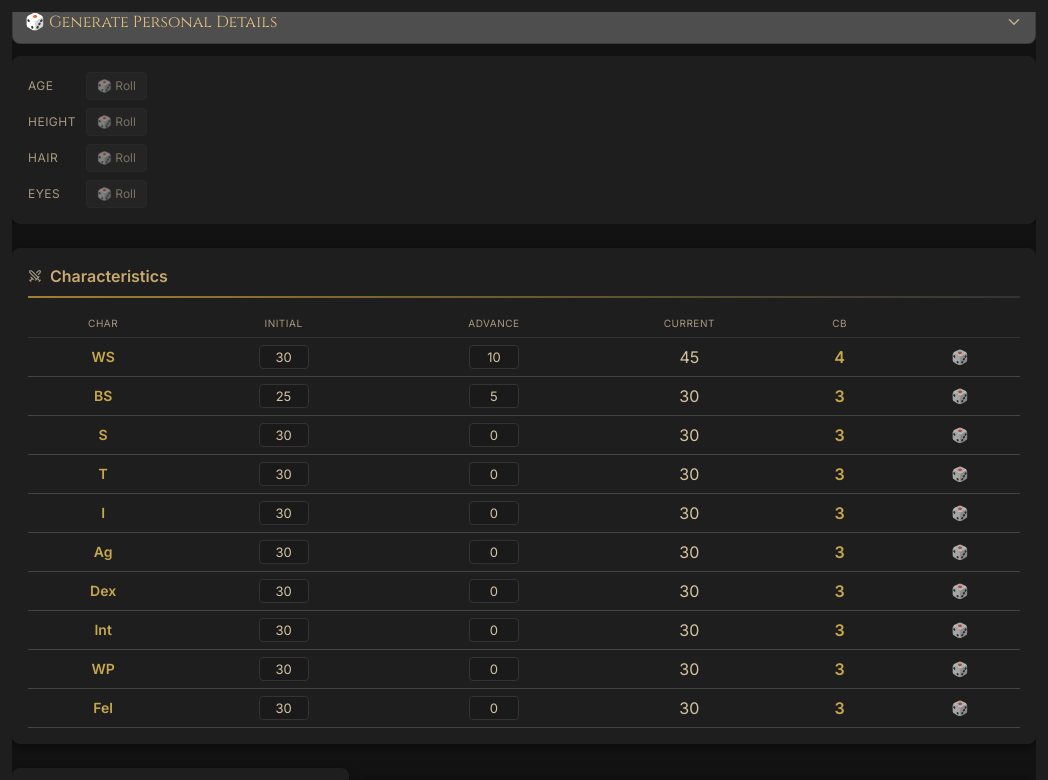
Test case: CharCurrentTooltip integration › characteristic without talent bonus omits the Talent Bonus row
This screenshot has width=1048, height=780.
Click the button "30" in the row of "BS".
click(689, 396)  # box x1=679 y1=386 x2=699 y2=406
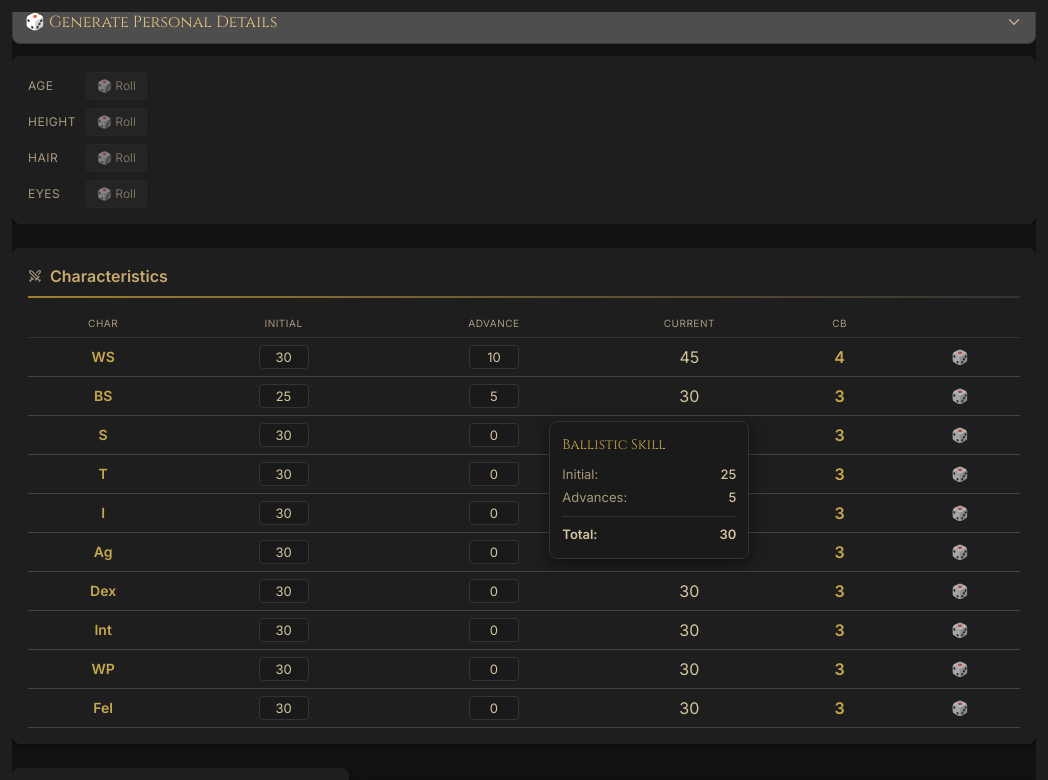
Check: the tooltip with id "tooltip-char-BS" is shown, box x1=549 y1=420 x2=749 y2=559
Check: the tooltip with id "tooltip-char-BS" shows "Ballistic Skill", box x1=562 y1=434 x2=666 y2=454
Check: the tooltip with id "tooltip-char-BS" shows "25", box x1=720 y1=466 x2=736 y2=482
